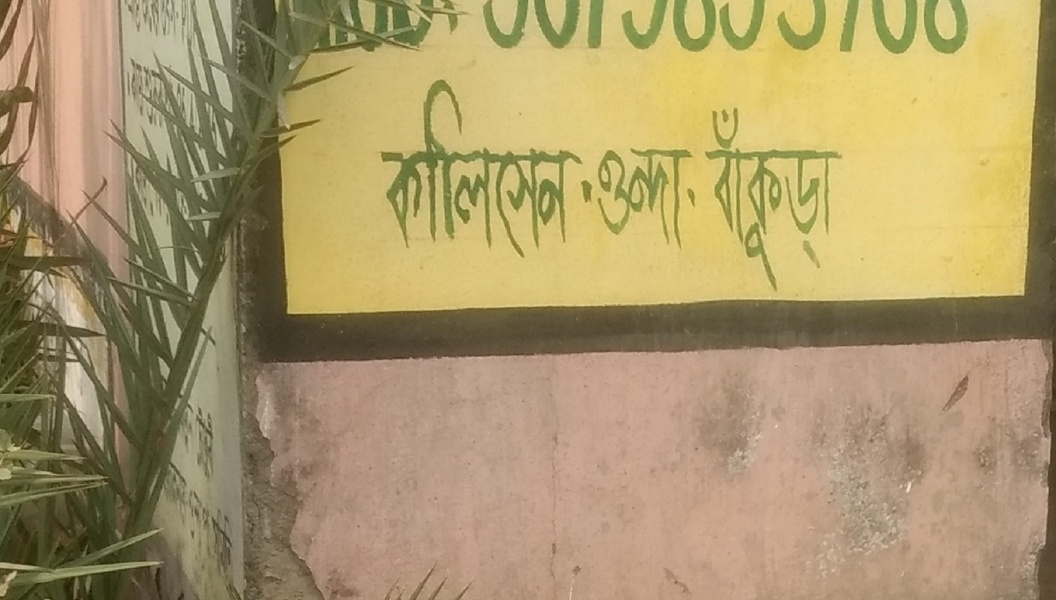text: (705, 103, 720, 300), (721, 103, 736, 300), (737, 103, 752, 300), (753, 103, 768, 300), (769, 103, 784, 300), (785, 103, 800, 300), (801, 103, 816, 300), (817, 103, 832, 300), (385, 73, 400, 261), (401, 73, 416, 261), (417, 73, 432, 261), (433, 73, 448, 261), (449, 73, 464, 261), (465, 73, 480, 261), (481, 73, 496, 261), (497, 73, 512, 261), (513, 73, 528, 261), (529, 73, 544, 261), (545, 73, 560, 261), (561, 73, 576, 261), (833, 103, 847, 300), (371, 73, 384, 261), (161, 445, 176, 596), (177, 445, 192, 596), (193, 445, 208, 596), (209, 445, 224, 596), (225, 445, 240, 596), (129, 146, 144, 273), (145, 146, 160, 273), (161, 146, 176, 273), (177, 146, 192, 273), (193, 146, 208, 273), (209, 146, 224, 273), (593, 143, 608, 258), (609, 143, 624, 258), (625, 143, 640, 258), (641, 143, 656, 258), (657, 143, 672, 258), (673, 143, 688, 258), (177, 369, 192, 484), (193, 369, 208, 484), (209, 369, 224, 484), (129, 51, 144, 161), (145, 51, 160, 161), (161, 51, 176, 161), (177, 51, 192, 161), (193, 51, 208, 161), (209, 51, 223, 161), (163, 369, 176, 484), (697, 103, 704, 300), (241, 445, 250, 596), (577, 73, 584, 261), (449, 1, 465, 62), (321, 1, 336, 62), (337, 1, 352, 62), (353, 1, 368, 62), (369, 1, 384, 62), (385, 1, 400, 62), (401, 1, 416, 62), (417, 1, 432, 62), (433, 1, 448, 62), (481, 1, 496, 59), (497, 1, 512, 59), (513, 1, 528, 59), (529, 1, 544, 59), (545, 1, 560, 59), (561, 1, 576, 59), (577, 1, 592, 59), (593, 1, 608, 59), (609, 1, 624, 59), (625, 1, 640, 59), (641, 1, 656, 59), (657, 1, 672, 59), (673, 1, 688, 59), (689, 1, 704, 59), (705, 1, 720, 59), (721, 1, 736, 59), (737, 1, 752, 59), (753, 1, 768, 59), (769, 1, 784, 59), (785, 1, 800, 59), (801, 1, 816, 59), (817, 1, 832, 59), (833, 1, 848, 59), (849, 1, 864, 59), (865, 1, 880, 59), (881, 1, 896, 59), (897, 1, 912, 59), (913, 1, 928, 59), (929, 1, 944, 59), (945, 1, 960, 59), (225, 369, 232, 484), (308, 1, 320, 62), (961, 1, 973, 59), (129, 2, 144, 45), (145, 2, 160, 45), (161, 2, 176, 45), (177, 2, 192, 45), (225, 146, 230, 273), (689, 143, 694, 258), (471, 1, 480, 59), (193, 2, 205, 45), (588, 143, 592, 258), (120, 2, 128, 45), (125, 51, 128, 161)
